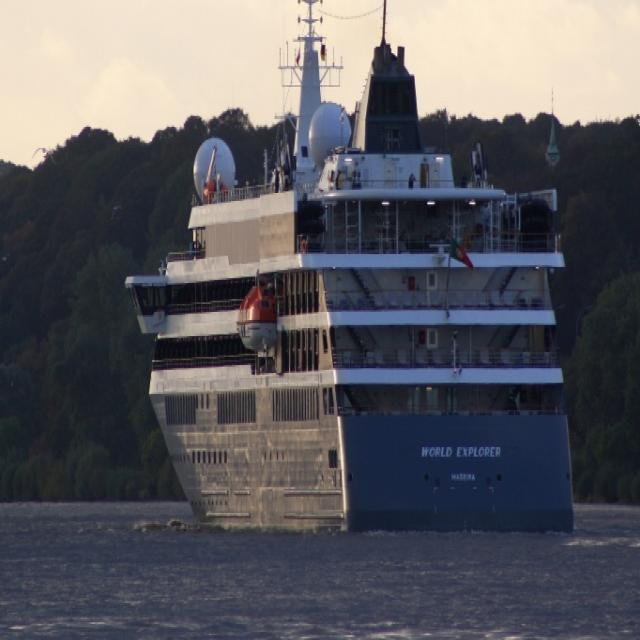cruises: (123, 1, 590, 553)
